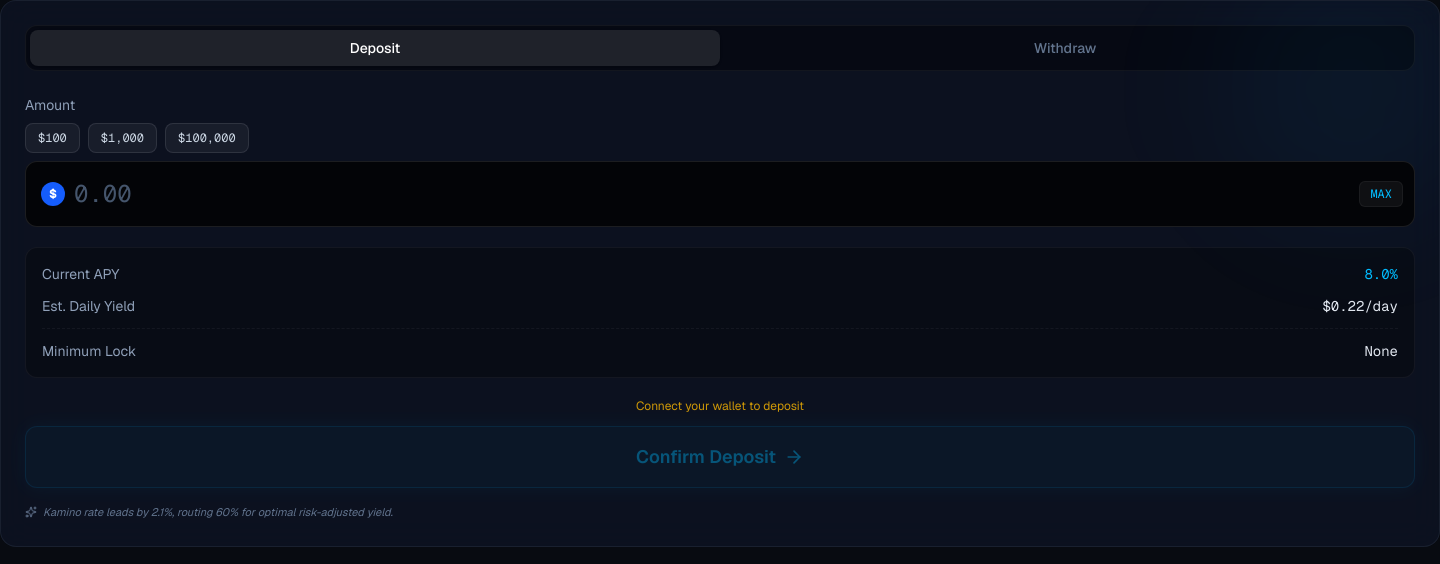
Scenario: DepositForm — preset amount buttons › click behaviour › clicking $100 preset fills the input with "100"
Click the button "$100".
click(52, 138)  # box 25,123 -> 80,153
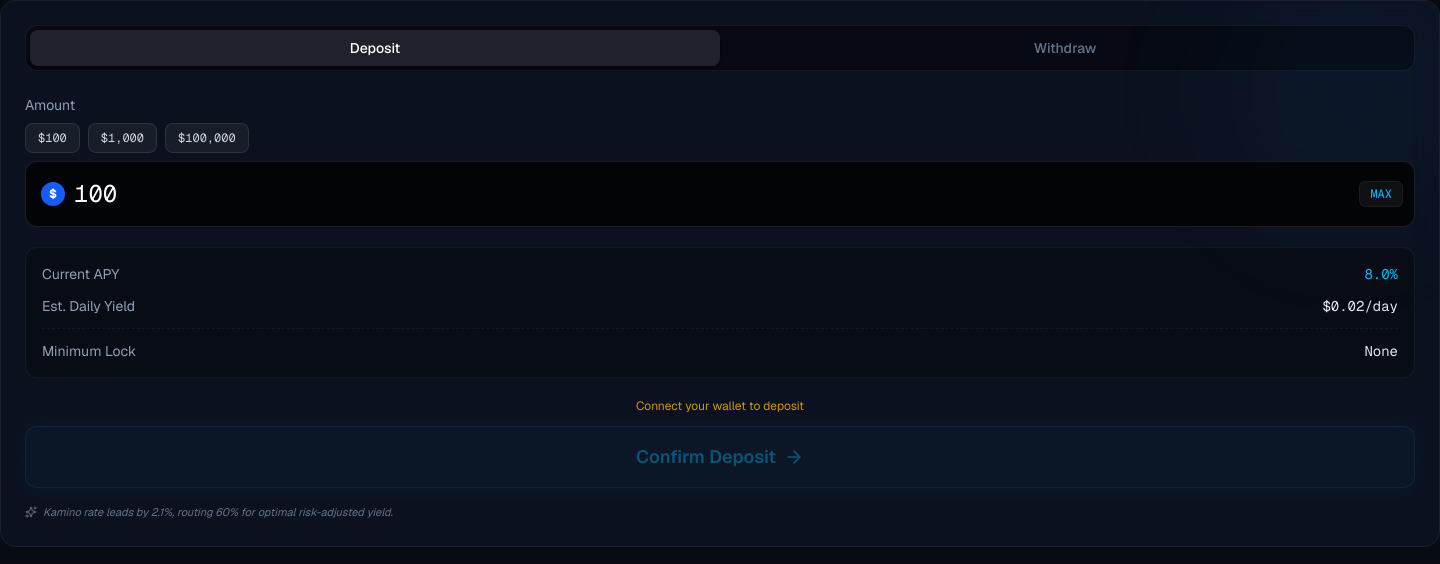
Now the number field with placeholder "0.00" holds "100", box 25,161 -> 1415,227
